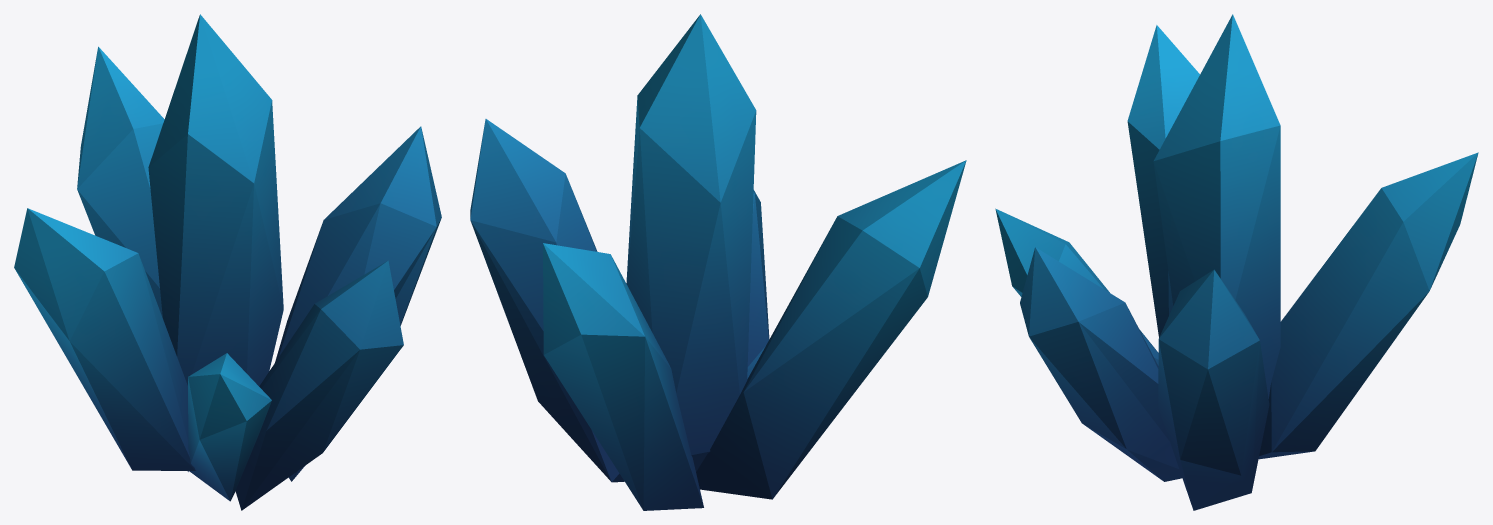
The model's file is ENV1210001.FBX.
The picture shows the model from 3 angles, left to right: view 1: azimuth 30°, elevation 25°; view 2: azimuth 150°, elevation 25°; view 3: azimuth 270°, elevation 25°; orthographic projection. The views are drawn at different scales.
Parts seen in each view (by area): view 1: smENV1210001; view 2: smENV1210001; view 3: smENV1210001.
Boxes of the visible parts, x1=… form: smENV1210001: x1=14, y1=14, x2=441, y2=510; smENV1210001: x1=470, y1=14, x2=966, y2=510; smENV1210001: x1=995, y1=14, x2=1478, y2=510.
Size of the model in its own units: 39.5 by 40.52 by 38.18.
Materials: 1 (1 with a texture image).
